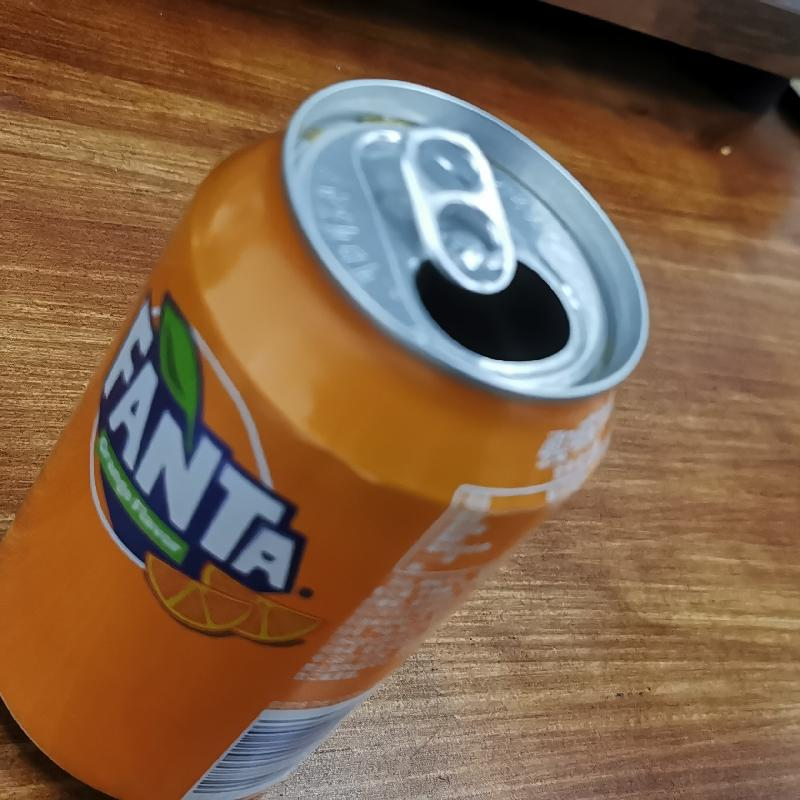cans: (3, 73, 651, 800)
